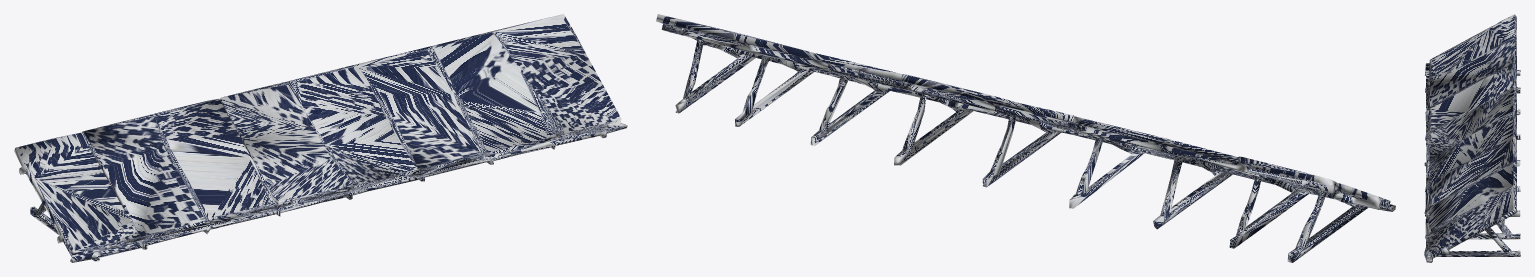
File: solar.glb
3 views of the same model, side by side, from view 1: azimuth 30°, elevation 25°; view 2: azimuth 150°, elevation 25°; view 3: azimuth 270°, elevation 25° (orthographic). The views are drawn at different scales.
Size of the model in its own units: 1.9 by 0.2427 by 0.3918.
1 material, 1 textured.
